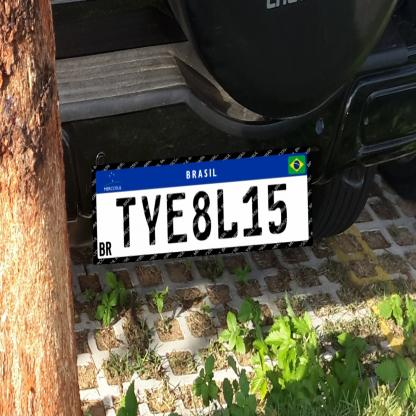PlacaM: (91, 146, 313, 264)
